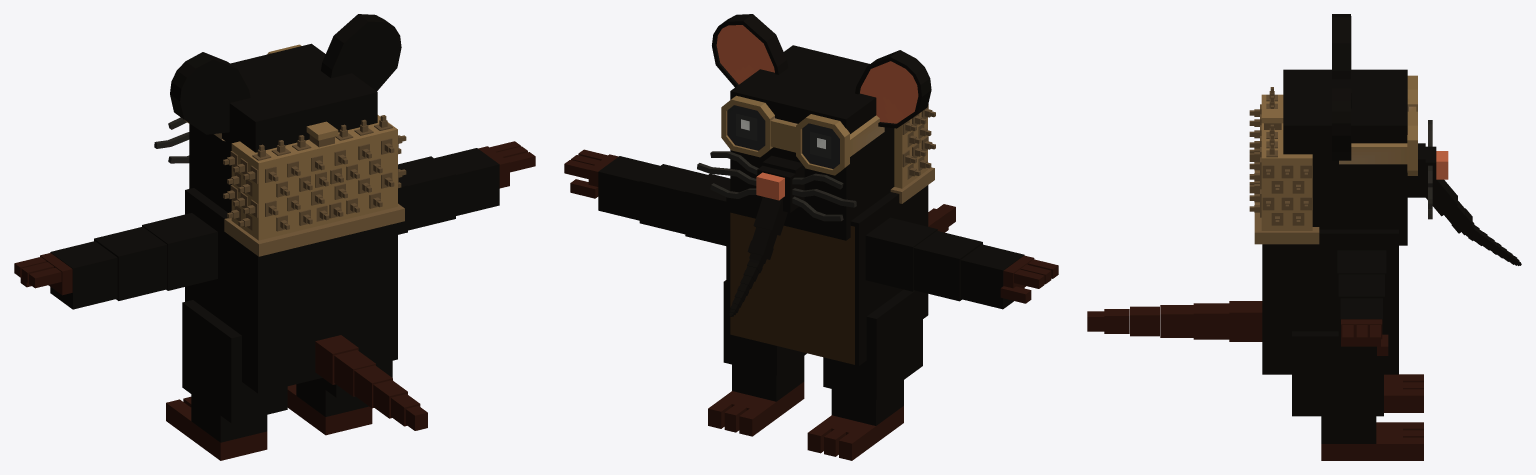
File: Talpa Di Fero.obj
3 renders of one model, left to right at view 1: azimuth 30°, elevation 25°; view 2: azimuth 150°, elevation 25°; view 3: azimuth 270°, elevation 25°, orthographic. The views are drawn at different scales.
Parts seen in each view (by area): view 1: Cube0031, Cube0021, Cube0121; view 2: Cube0031, Cube0021, Cube0071, Cube0121, Cube0081; view 3: Cube0031, Cube0121, Cube0021, Cube0081.
Part boxes in pixels (x1,y1,x2,y2): Cube0031: (50, 14, 499, 442); Cube0021: (154, 44, 406, 256); Cube0121: (14, 141, 535, 460); Cube0031: (598, 14, 1024, 425); Cube0021: (697, 25, 935, 221); Cube0071: (730, 212, 854, 364); Cube0121: (564, 149, 1058, 460); Cube0081: (729, 196, 787, 316); Cube0031: (1262, 14, 1436, 443); Cube0121: (1087, 301, 1423, 460); Cube0021: (1249, 75, 1448, 244); Cube0081: (1426, 179, 1521, 265).
Bounding box in the file's own units: 8.19 × 6.22 × 6.56.
4 materials, 1 textured.
